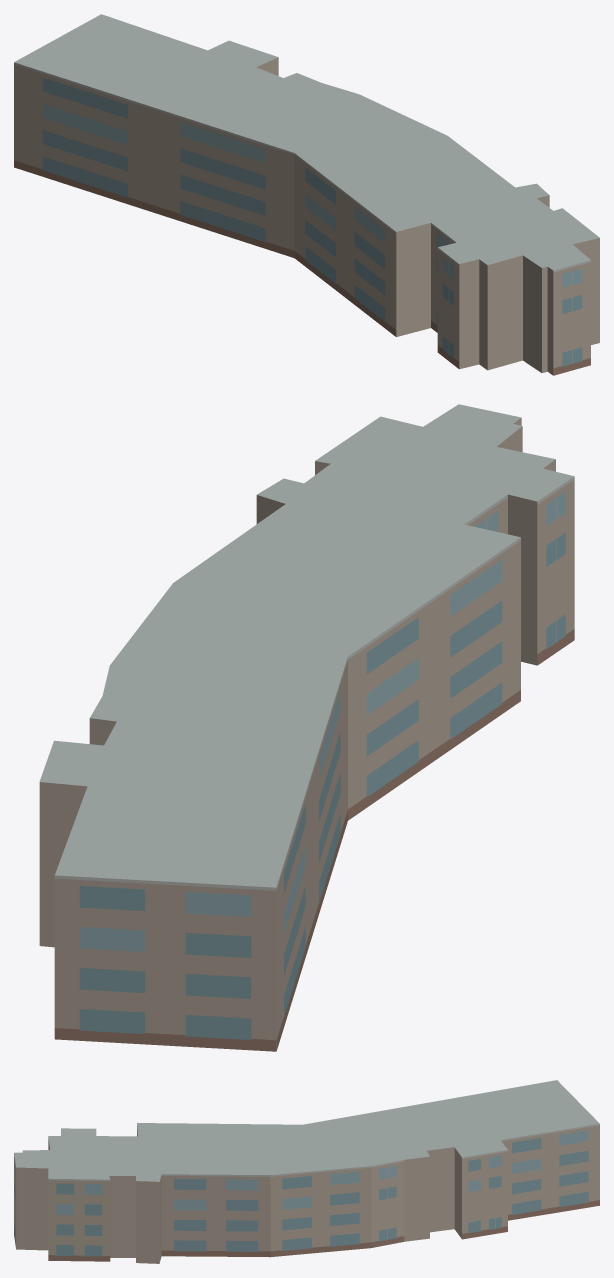
File: survey-upis-32681117.glb
3 views of the same model, one above another, from view 1: azimuth 30°, elevation 25°; view 2: azimuth 150°, elevation 25°; view 3: azimuth 270°, elevation 25° (orthographic). The views are drawn at different scales.
Parts seen in each view (by area): view 1: survey-upis-32681117.tmp; view 2: survey-upis-32681117.tmp; view 3: survey-upis-32681117.tmp.
Part boxes in pixels (x1,y1,x2,y2): survey-upis-32681117.tmp: (14,14,599,375); survey-upis-32681117.tmp: (39,404,574,1051); survey-upis-32681117.tmp: (14,1080,599,1263).
Size of the model in its own units: 33.7 by 12.65 by 81.92.
